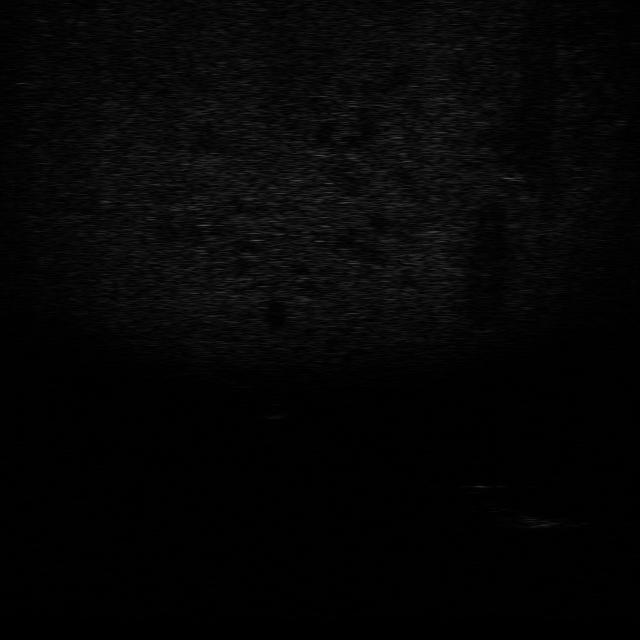ball: (258, 400, 294, 420)
metal bucket: (497, 508, 575, 532)
tyre: (463, 482, 512, 515)
